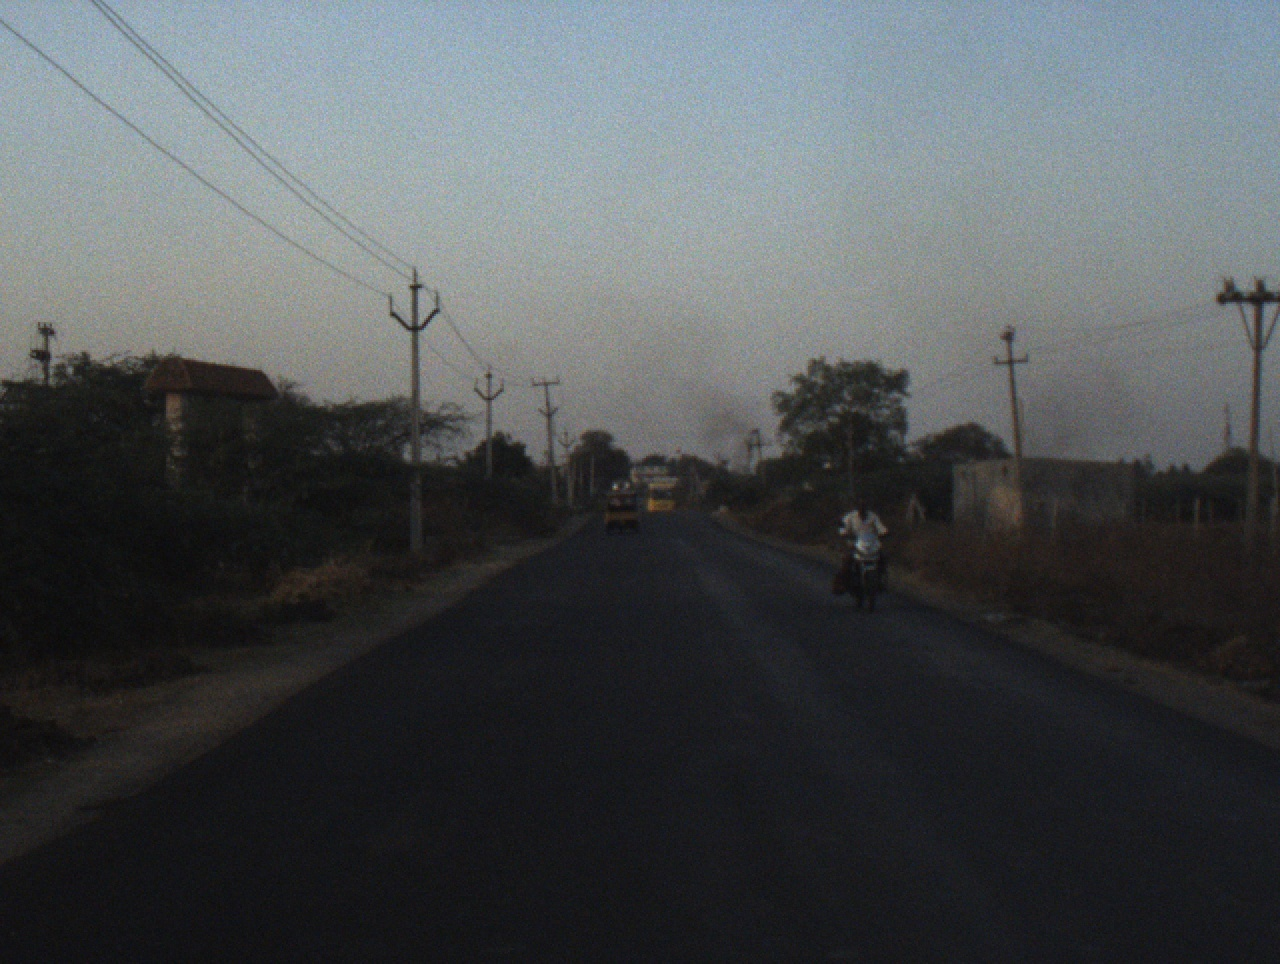autorickshaw: (596, 474, 647, 536)
bus: (641, 479, 678, 520)
motorcycle: (831, 521, 892, 623)
rider: (827, 487, 889, 600)
